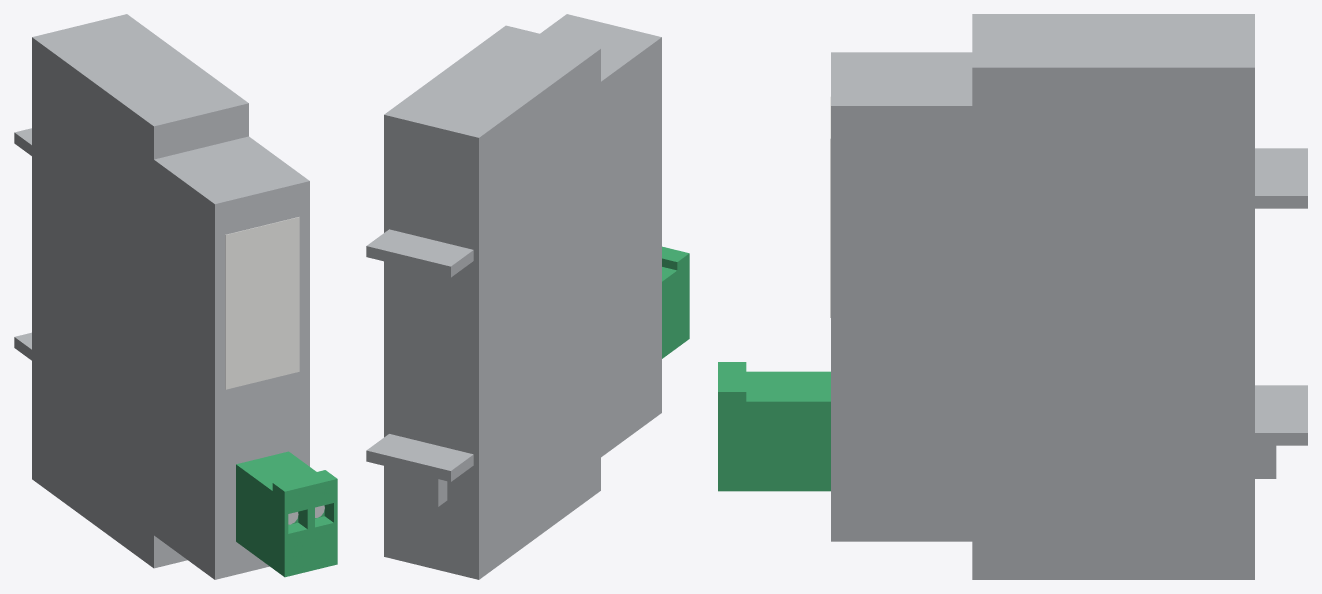
The model's file is diode-rail-3a.glb.
3 renders of one model, left to right at view 1: azimuth 30°, elevation 25°; view 2: azimuth 150°, elevation 25°; view 3: azimuth 270°, elevation 25°, orthographic. The views are drawn at different scales.
Visible parts, largest first — view 1: body; view 2: body; view 3: body.
Boxes of the visible parts, left/top/right/bottom form: body: left=14, top=14, right=337, bottom=579; body: left=366, top=14, right=689, bottom=579; body: left=718, top=14, right=1307, bottom=579.
Size of what is drawn, in the model's own units: 0.018 by 0.08 by 0.0835.
